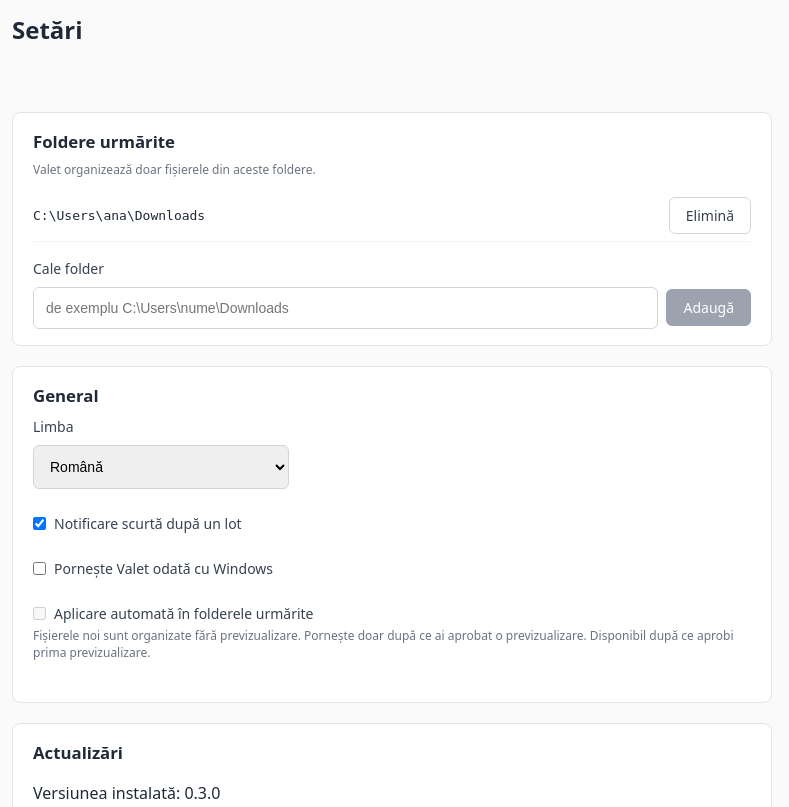
Scenario: SettingsView › shows translated backend errors and keeps the list unchanged
Check: the text "C:\\Users\\ana\\Downloads" is shown, box [33,206,205,226]
Type "D:\\" into the field labelled "Cale folder" at (346, 308), box [33,287,658,329]
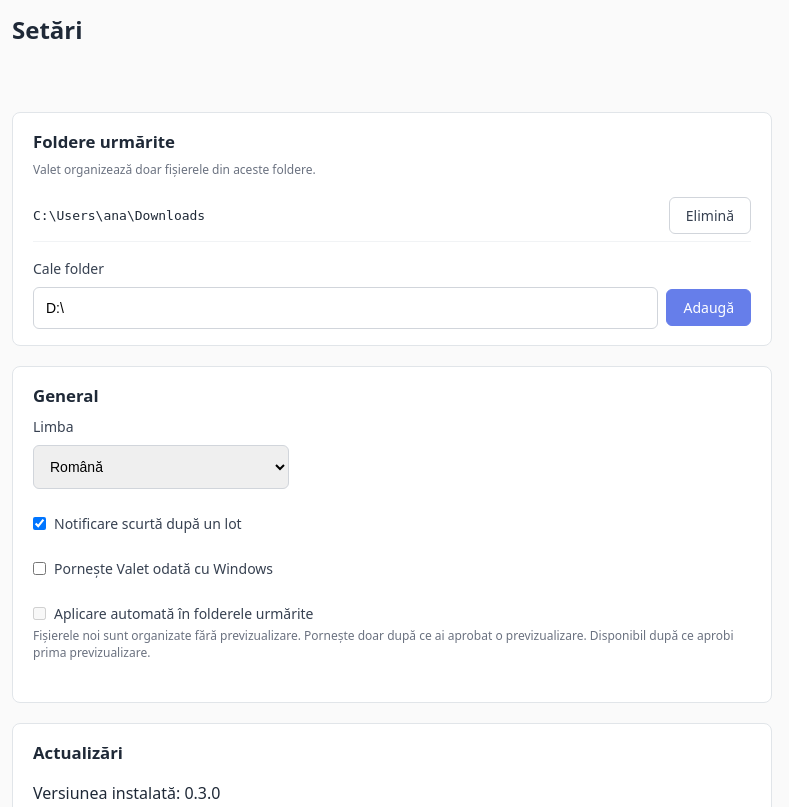
Click the button "Adaugă" at (709, 308), box [666,289,751,326]
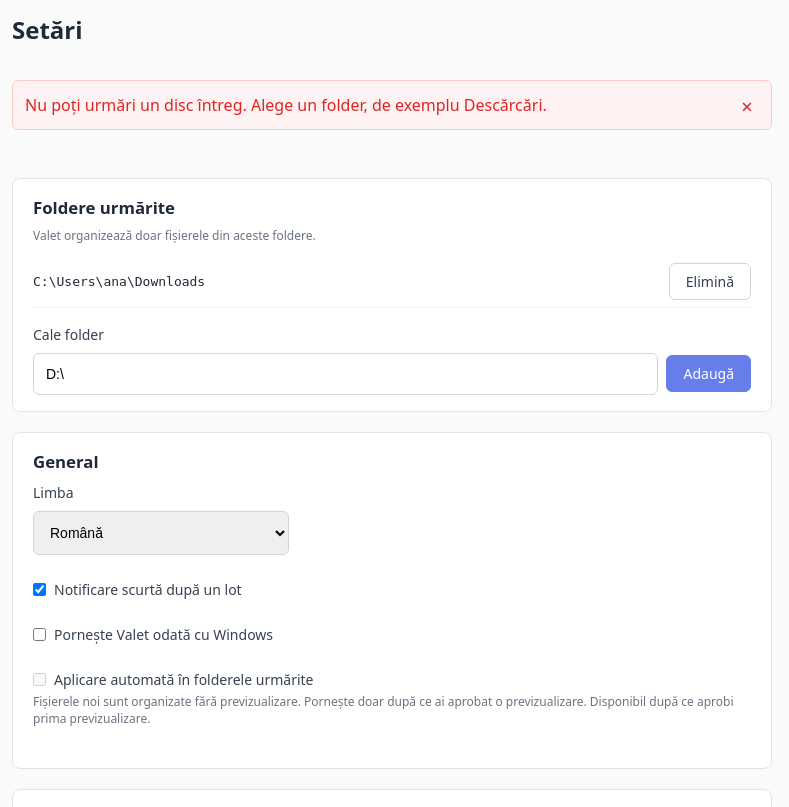
Check: the text "Nu poți urmări un disc întreg. Alege un folder, de exemplu Descărcări." is shown, box [25,94,547,116]
Replace the text in the field labelled "Cale folder" with "C:\\Windows" at (346, 374), box [33,353,658,395]
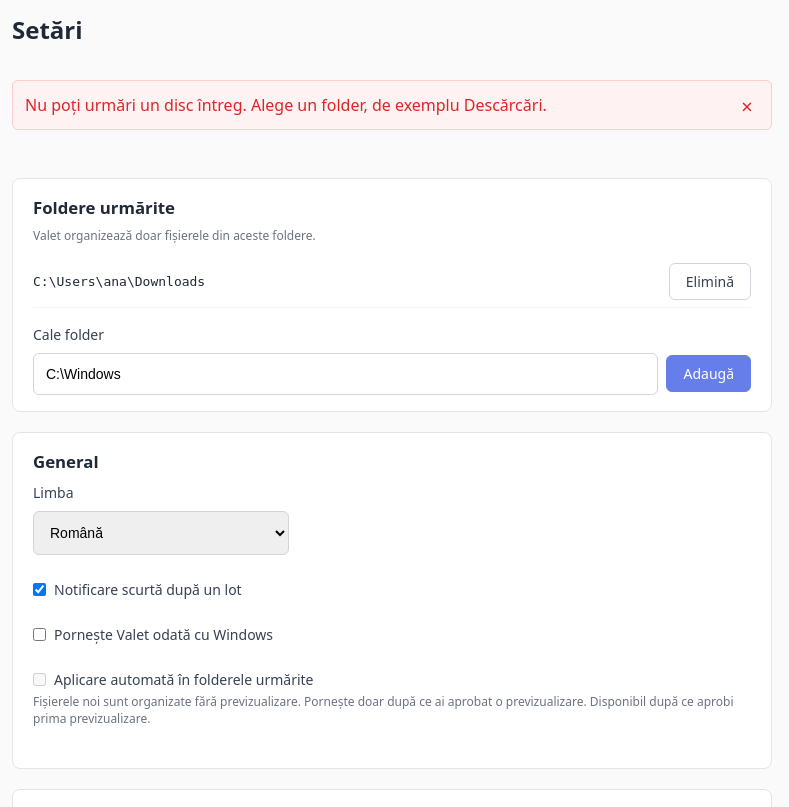
Click the button "Adaugă" at (709, 374), box [666,355,751,392]
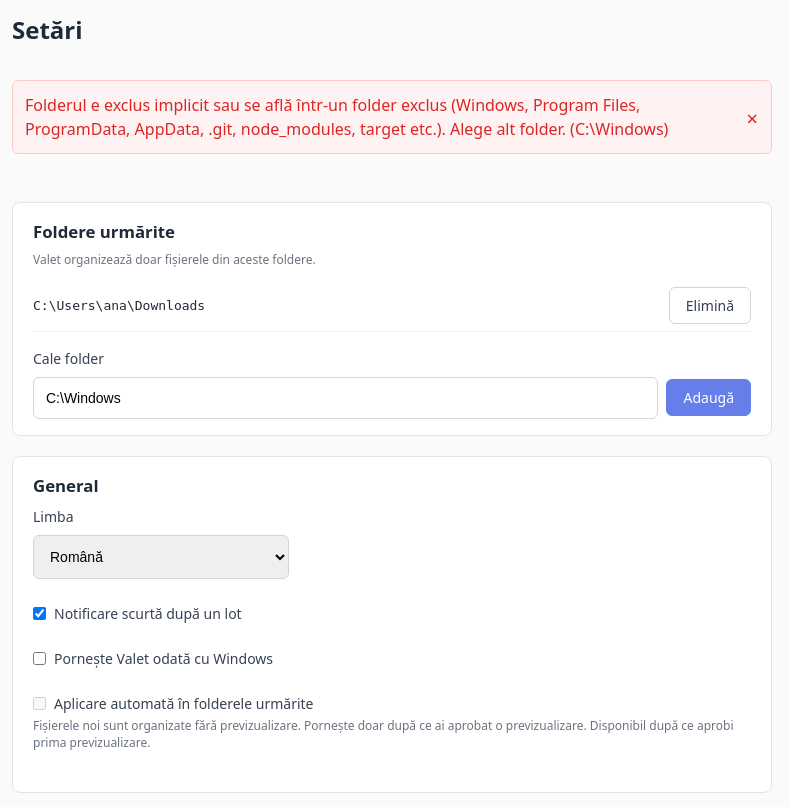
Replace the text in the field labelled "Cale folder" with "X:\\broken" at (346, 398), box [33,377,658,419]
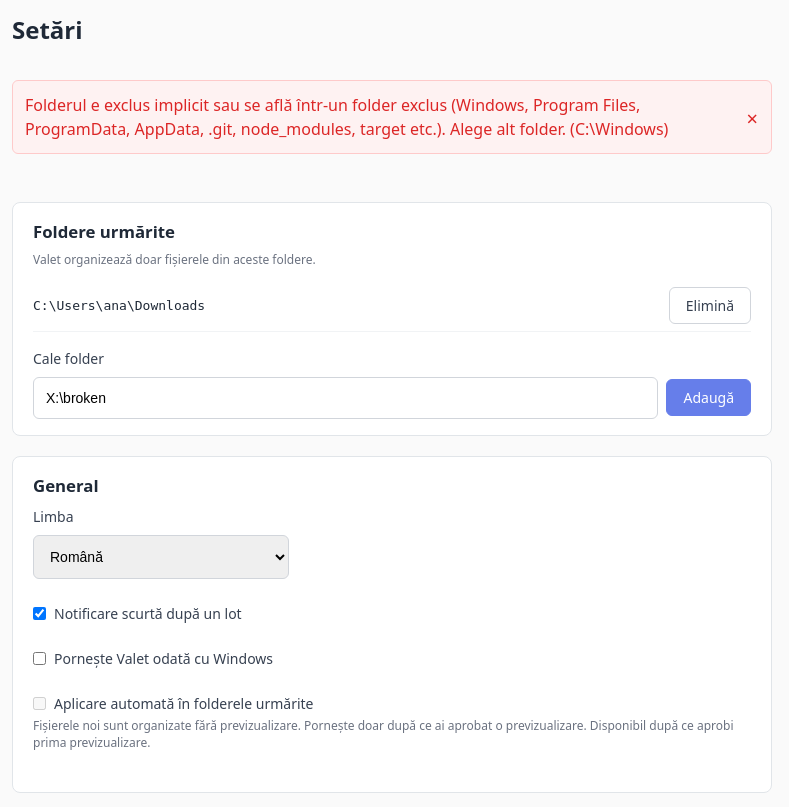
Click the button "Adaugă" at (709, 398), box [666,379,751,416]
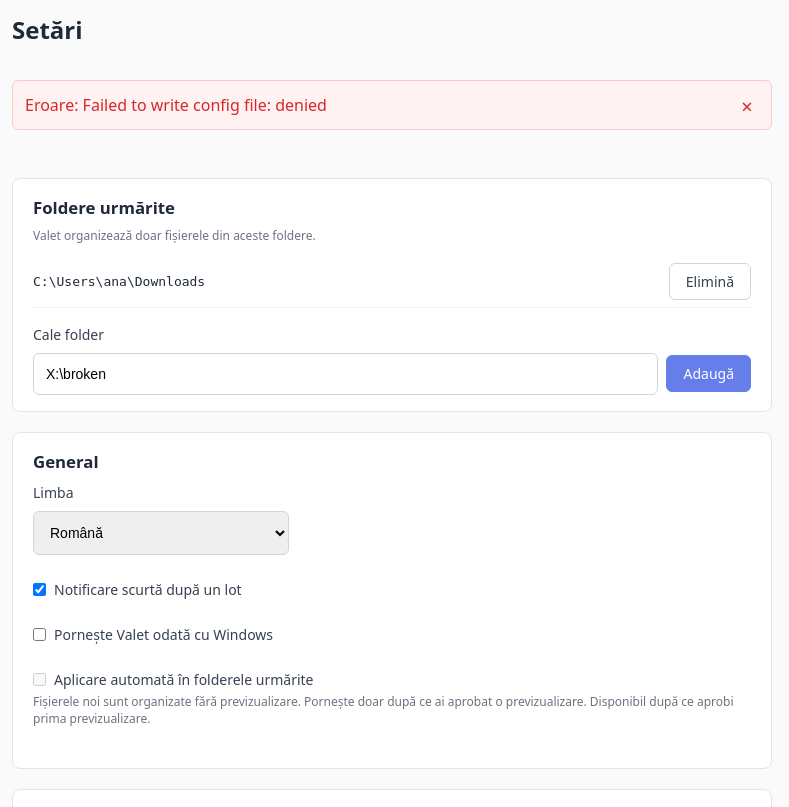
Check: the text "Eroare: Failed to write config file: denied" is shown, box [25,94,327,116]
